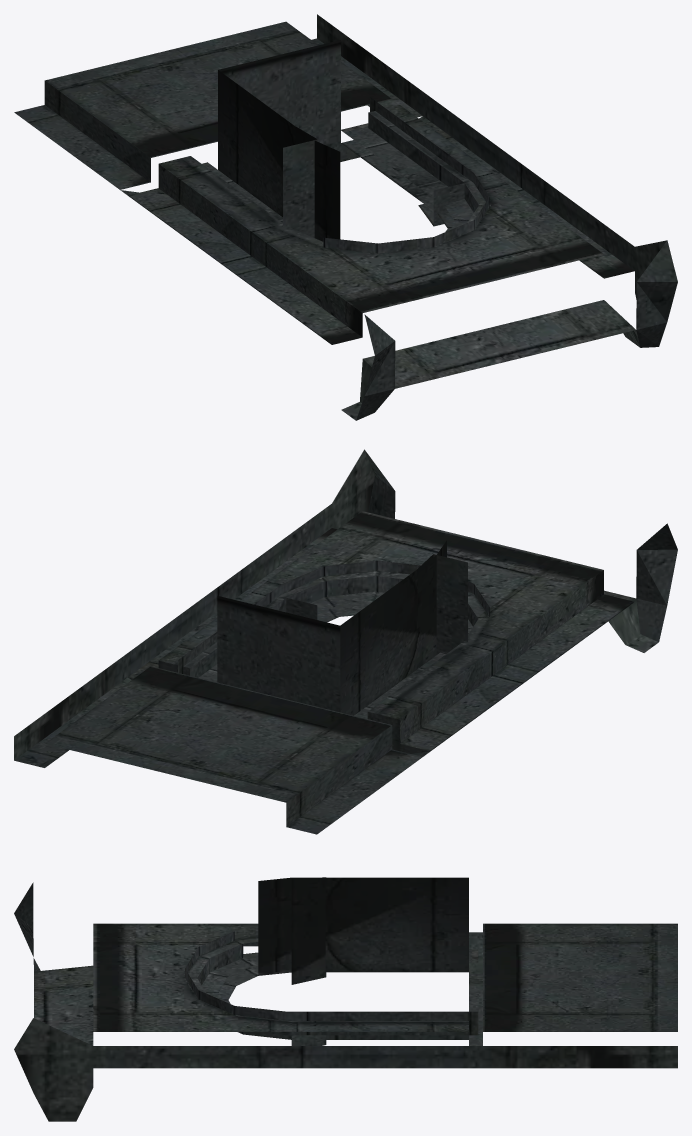
The picture shows the model from 3 angles, top to bottom: view 1: azimuth 30°, elevation 25°; view 2: azimuth 150°, elevation 25°; view 3: azimuth 270°, elevation 25°; orthographic projection. The views are drawn at different scales.
Visible parts, largest first — view 1: model_Object32; view 2: model_Object32; view 3: model_Object32.
Boxes of the visible parts, box(x1,y1,x2,y2) form: model_Object32: box(14, 14, 677, 420); model_Object32: box(14, 449, 677, 834); model_Object32: box(14, 877, 677, 1121).
Bounding box in the file's own units: 4 × 2.04 × 8.26.
2 materials, 2 textured.
